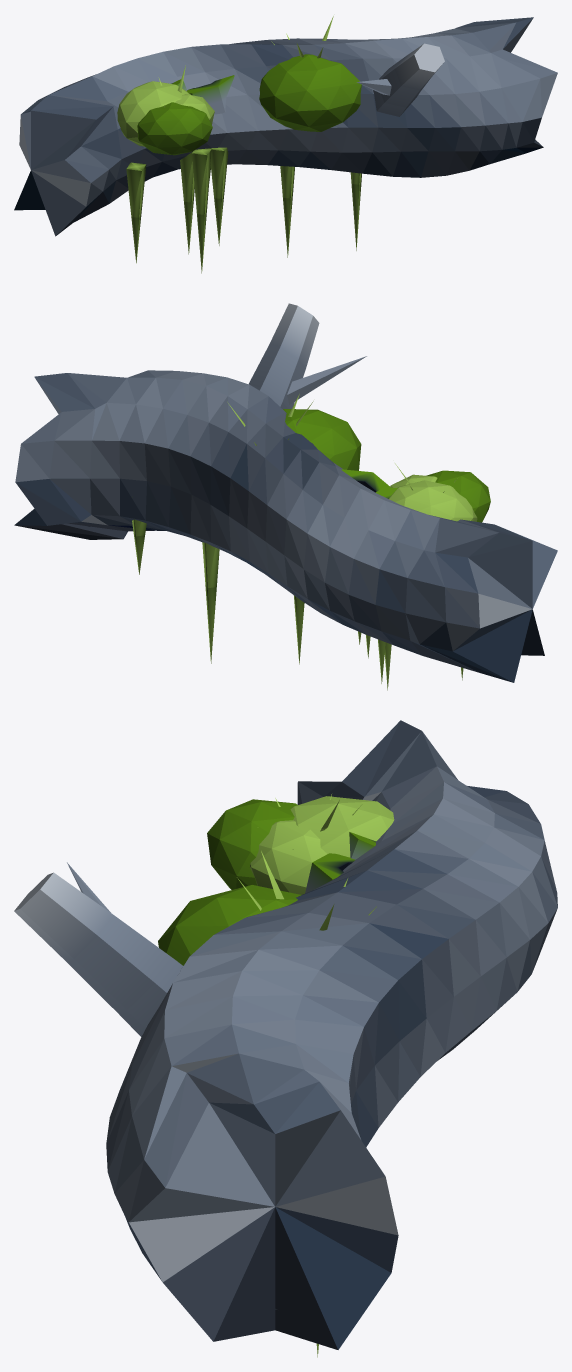
File: pohon_tumbang_bridge_driftwood_385072.glb
3 renders of one model, top to bottom at view 1: azimuth 30°, elevation 25°; view 2: azimuth 150°, elevation 25°; view 3: azimuth 270°, elevation 25°, orthographic. The views are drawn at different scales.
Parts seen in each view (by area): view 1: Batang_Melintang_Sungai; view 2: Batang_Melintang_Sungai; view 3: Batang_Melintang_Sungai.
Part boxes in pixels (box(x1,y1,x2,y2)): Batang_Melintang_Sungai: box(14, 16, 557, 273); Batang_Melintang_Sungai: box(14, 303, 557, 690); Batang_Melintang_Sungai: box(14, 720, 557, 1357).
Bounding box in the file's own units: 5.14 × 2.74 × 2.8.
